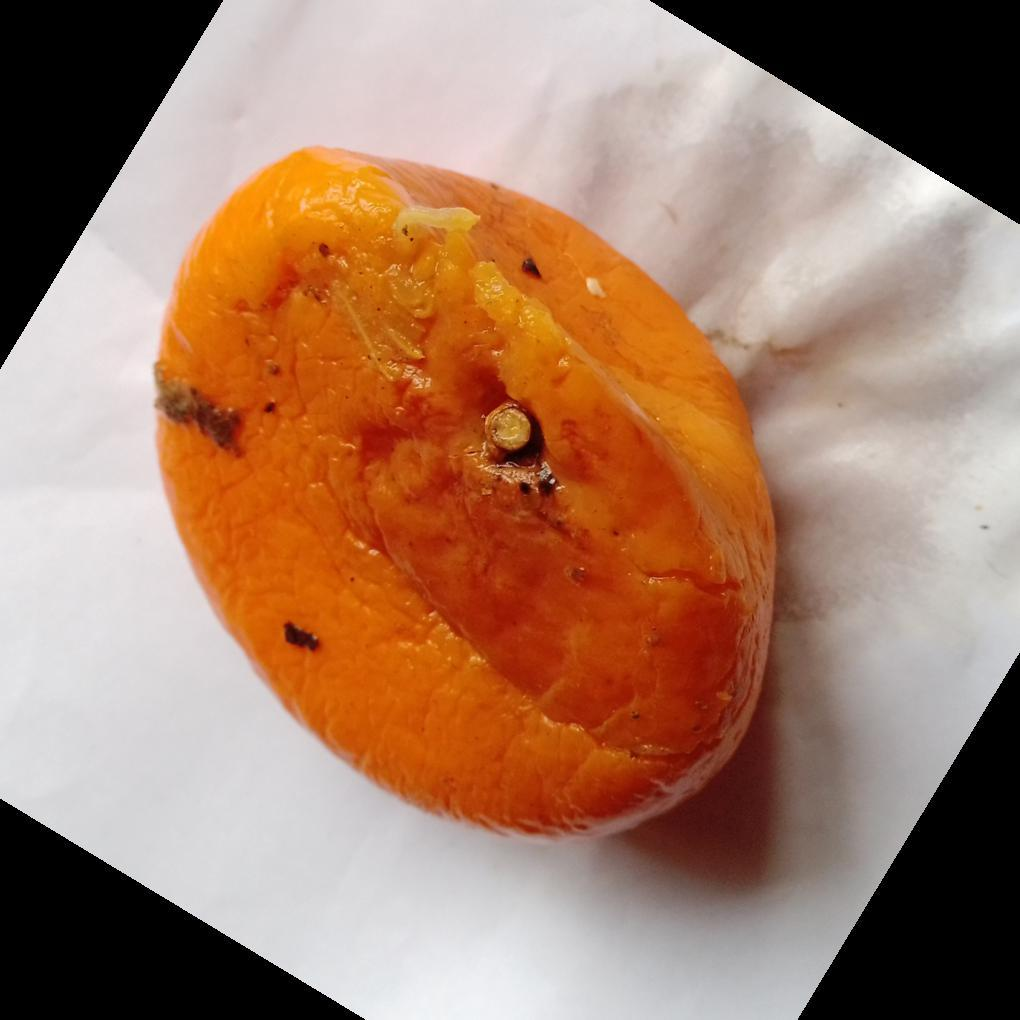FreshOrange: (148, 147, 779, 846)
